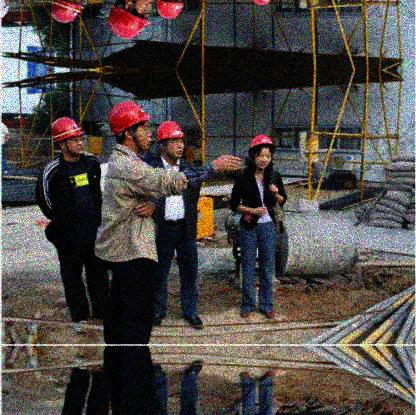helmet: (108, 102, 151, 153), (108, 1, 155, 40), (50, 116, 83, 155), (156, 119, 187, 159), (246, 132, 278, 167)
